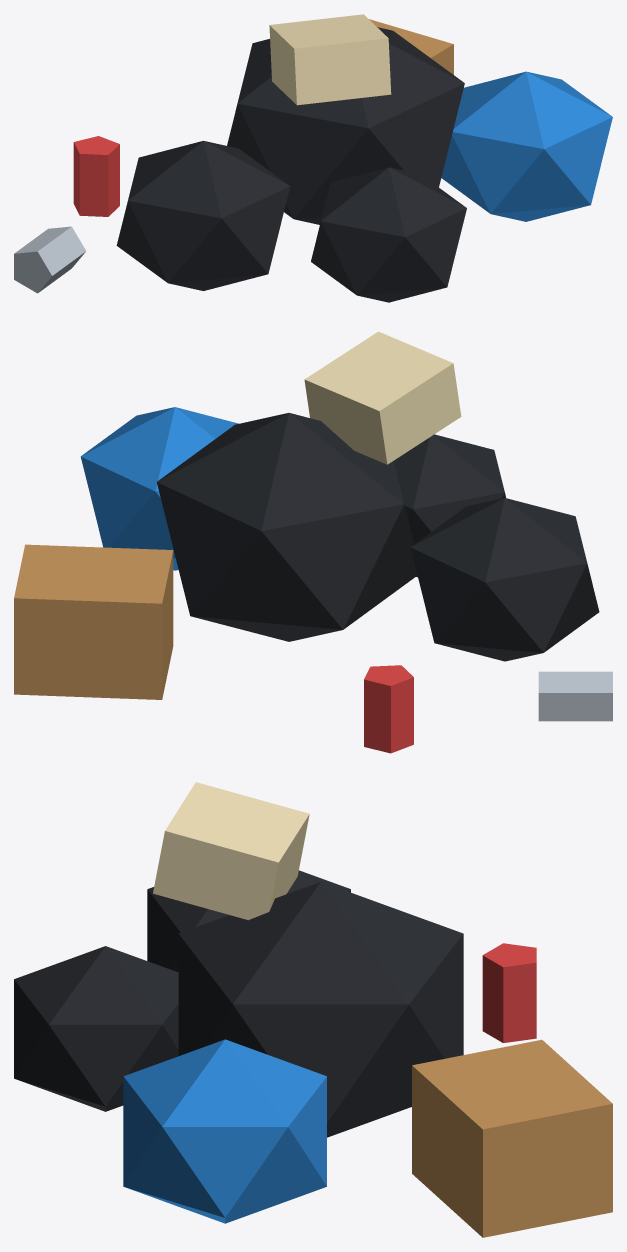
Rendered from monte_lixo.glb.
3 renders of one model, top to bottom at view 1: azimuth 30°, elevation 25°; view 2: azimuth 150°, elevation 25°; view 3: azimuth 270°, elevation 25°, orthographic. The views are drawn at different scales.
Parts seen in each view (by area): view 1: corpo; view 2: corpo; view 3: corpo.
Part boxes in pixels (x1=…): corpo: x1=14, y1=14, x2=612, y2=302; corpo: x1=14, y1=331, x2=612, y2=753; corpo: x1=14, y1=782, x2=612, y2=1237.
Bounding box in the file's own units: 0.6302 × 0.2748 × 0.5005.
